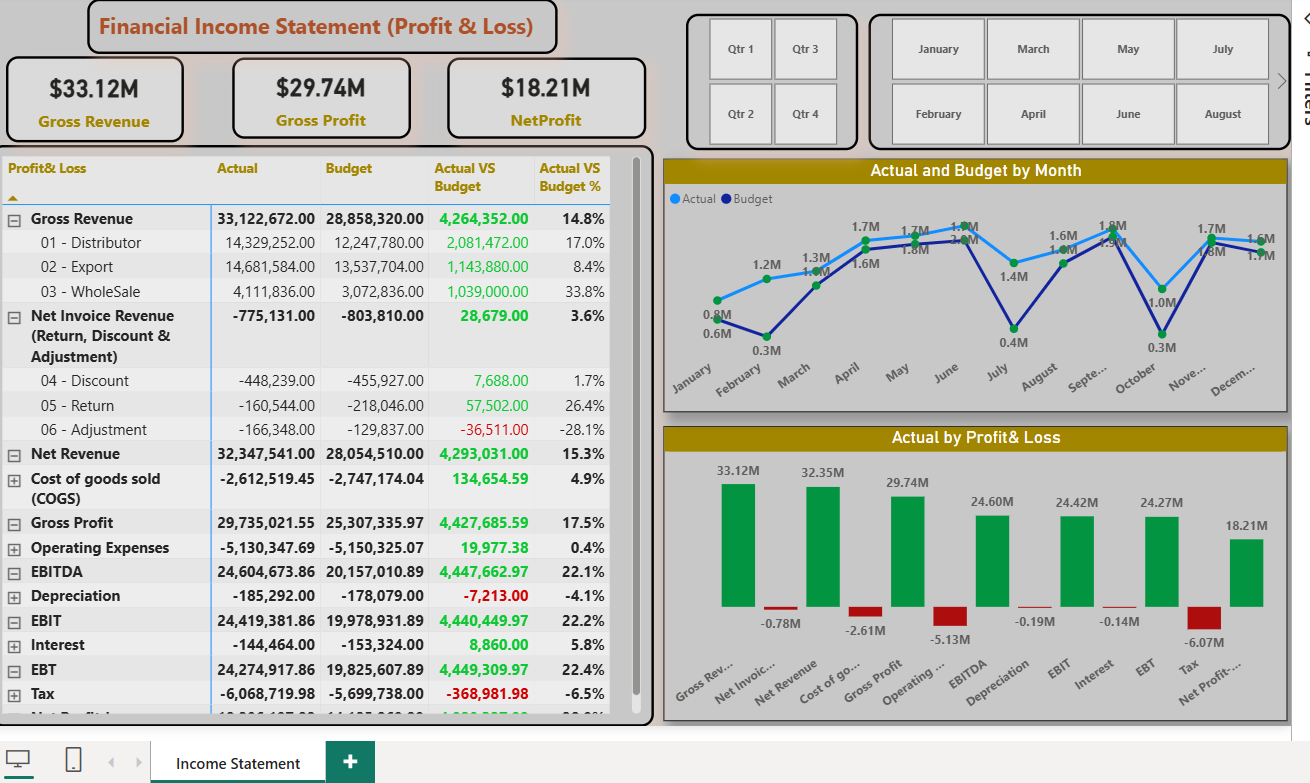

Layout of this report page (visuals, bound fields, positions):
{"tool":"powerbi","page":{"name":"Income Statement ","canvas":[1280,720],"ordinal":0},"visuals":[{"type":"pivotTable","fields":{"Rows":["Structure.Profit& Loss","TransactionTable.Level 2"],"Values":["All measure (2).Actual","All measure (2).Budget","All measure (2).Actual VS Budget","All measure (2).Actual VS Budget %"]},"box":[0,147.6,652.4,572.4],"z":0},{"type":"card","fields":{"Values":["All measure (2).Gross Revenue"]},"box":[14.8,60.3,174.8,84.9],"z":1000},{"type":"slicer","fields":{"Values":["Date.Date.Variation.Date Hierarchy.Month"]},"box":[864.2,18.5,416.1,134.2],"z":2000},{"type":"card","fields":{"Values":["All measure (2).NetProfit"]},"box":[449.3,61.6,195.7,80],"z":3000},{"type":"columnChart","fields":{"Category":["Structure.Profit& Loss"],"Y":["All measure (2).Actual"]},"box":[662.3,424.7,614.3,290.5],"z":4000},{"type":"lineChart","fields":{"Category":["Date.Date.Variation.Date Hierarchy.Year","Date.Date.Variation.Date Hierarchy.Quarter","Date.Date.Variation.Date Hierarchy.Month","Date.Date.Variation.Date Hierarchy.Day"],"Y":["All measure (2).Actual","All measure (2).Budget"]},"box":[662.3,161.3,614.3,249.9],"z":5000},{"type":"card","fields":{"Values":["All measure (2).Gross Profit"]},"box":[237.6,61.6,176,80],"z":6000},{"type":"slicer","fields":{"Values":["Date.Date.Variation.Date Hierarchy.Quarter"]},"box":[684.4,18.5,169.9,134.2],"z":7000},{"type":"textbox","box":[94.8,3.7,462.9,54.2],"z":8000}]}

Visuals, with their boxes in screenshot pixels (x1, y1, x2, y2):
pivotTable - Structure.Profit& Loss x TransactionTable.Level 2: pyautogui.locateOnScreen(0, 142, 652, 720)
card - All measure (2).Gross Revenue: pyautogui.locateOnScreen(8, 54, 185, 140)
slicer - Date.Date.Variation.Date Hierarchy.Month: pyautogui.locateOnScreen(865, 12, 1285, 147)
card - All measure (2).NetProfit: pyautogui.locateOnScreen(447, 55, 644, 136)
columnChart - Structure.Profit& Loss x All measure (2).Actual: pyautogui.locateOnScreen(662, 422, 1282, 715)
lineChart - Date.Date.Variation.Date Hierarchy.Year x Date.Date.Variation.Date Hierarchy.Quarter: pyautogui.locateOnScreen(662, 156, 1282, 408)
card - All measure (2).Gross Profit: pyautogui.locateOnScreen(233, 55, 411, 136)
slicer - Date.Date.Variation.Date Hierarchy.Quarter: pyautogui.locateOnScreen(684, 12, 855, 147)
textbox: pyautogui.locateOnScreen(89, 0, 556, 52)
